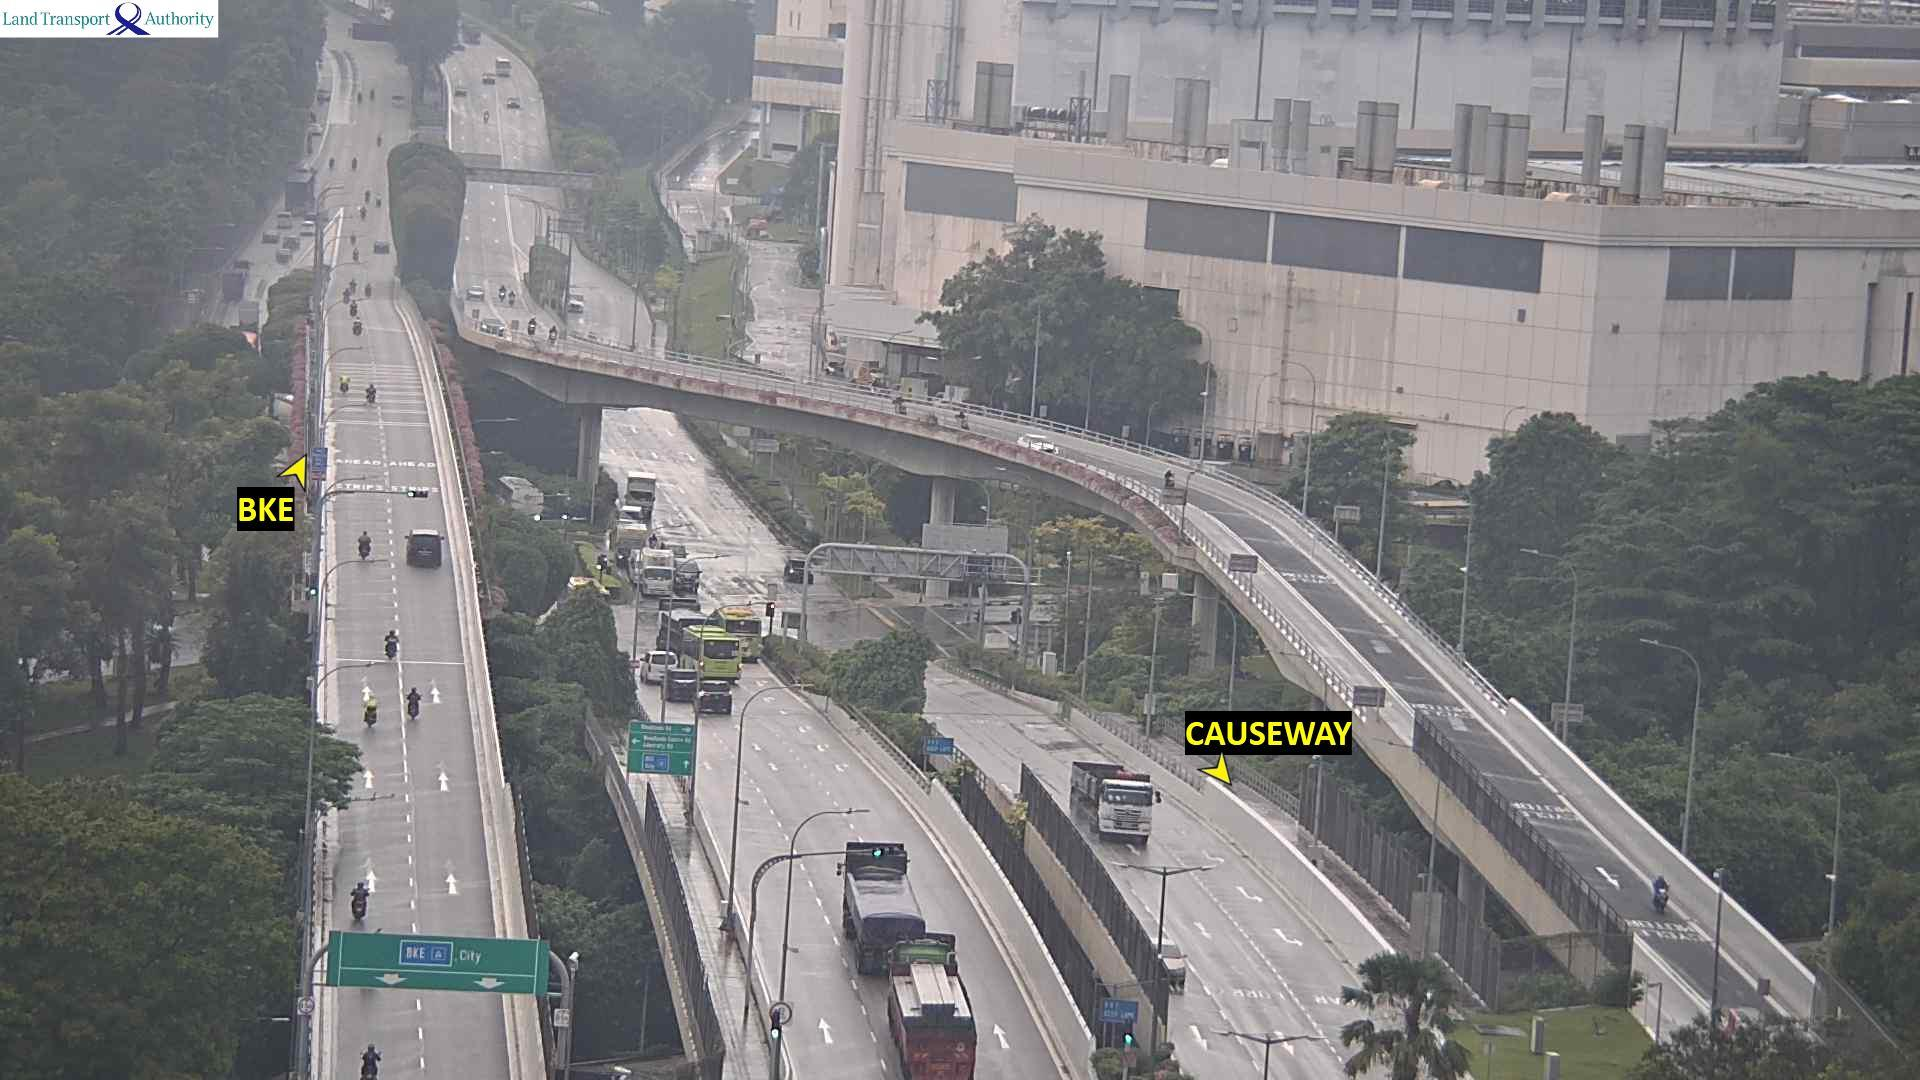vehicle-causeway-johor: (480, 317, 505, 335), (468, 285, 484, 301), (508, 290, 519, 305), (527, 314, 535, 334), (497, 284, 505, 302)
vehicle-causeway-singapore: (888, 933, 976, 1080), (846, 842, 925, 967), (686, 629, 740, 683), (659, 600, 716, 648), (719, 607, 761, 660), (407, 531, 446, 568), (695, 680, 733, 714), (642, 650, 675, 679), (348, 879, 369, 920), (358, 1043, 381, 1079), (664, 671, 695, 697), (406, 690, 422, 721), (365, 693, 378, 728), (356, 528, 371, 558), (385, 628, 398, 661), (365, 381, 377, 403), (340, 372, 350, 393), (353, 318, 363, 336)
vehicle-secondlink-johor: (1018, 431, 1063, 457), (1653, 873, 1671, 912), (891, 394, 907, 417), (1164, 469, 1174, 487), (548, 324, 556, 342)
